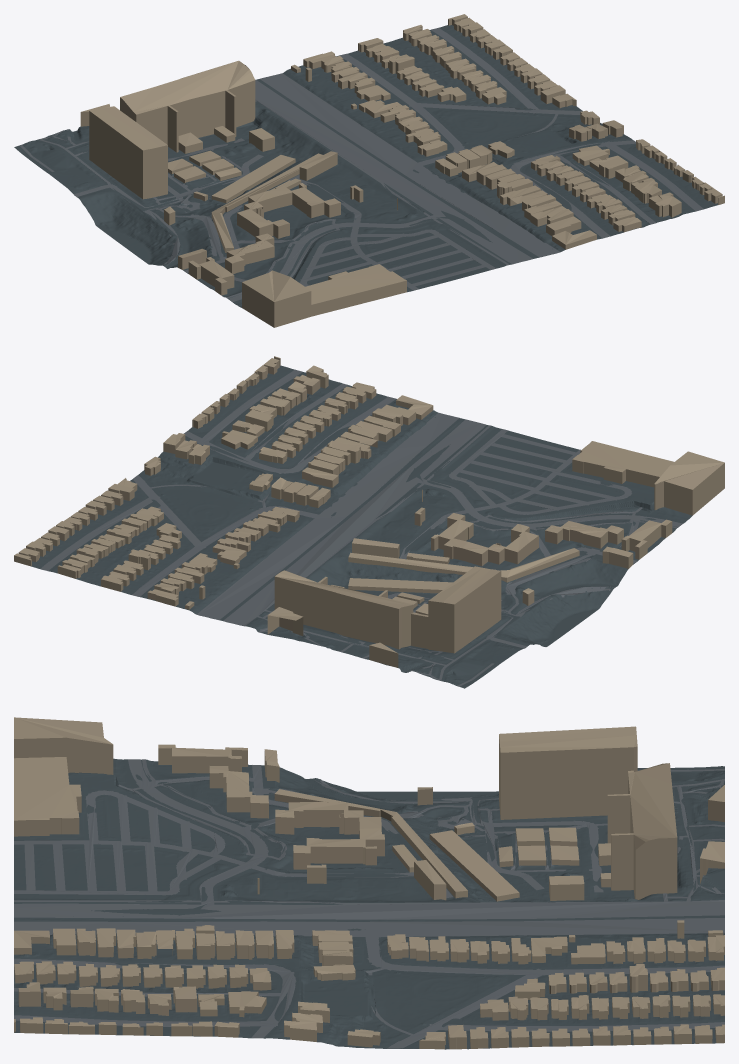
The model's file is epsg26910-1422-10873.lod0.glb.
3 views of the same model, one above another, from view 1: azimuth 30°, elevation 25°; view 2: azimuth 150°, elevation 25°; view 3: azimuth 270°, elevation 25° (orthographic). The views are drawn at different scales.
Visible parts, largest first — view 1: epsg26910-1422-10873-lod0; view 2: epsg26910-1422-10873-lod0; view 3: epsg26910-1422-10873-lod0.
Part boxes in pixels (x1,y1,x2,y2): epsg26910-1422-10873-lod0: [14, 14, 724, 327]; epsg26910-1422-10873-lod0: [14, 356, 724, 688]; epsg26910-1422-10873-lod0: [14, 717, 724, 1049].
Bounding box in the file's own units: 384 × 56.04 × 384.
